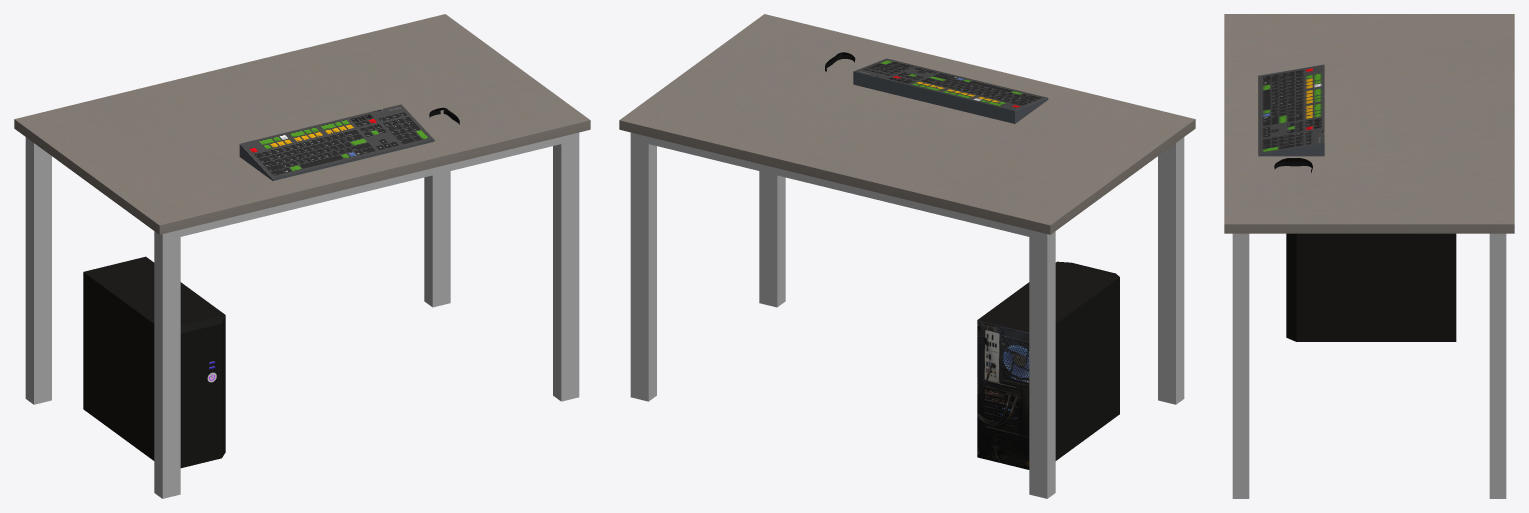
The model's file is bloomberg_desk.fbx.
3 renders of one model, left to right at view 1: azimuth 30°, elevation 25°; view 2: azimuth 150°, elevation 25°; view 3: azimuth 270°, elevation 25°, orthographic.
Visible parts, largest first — view 1: bloomberg_desk; view 2: bloomberg_desk; view 3: bloomberg_desk.
Part boxes in pixels (bbox=[...]): bloomberg_desk: bbox=[14, 14, 590, 498]; bloomberg_desk: bbox=[619, 14, 1195, 498]; bloomberg_desk: bbox=[1224, 14, 1514, 498].
Bounding box in the file's own units: 120 × 77.53 × 70.
Materials: 10 (3 with a texture image).
